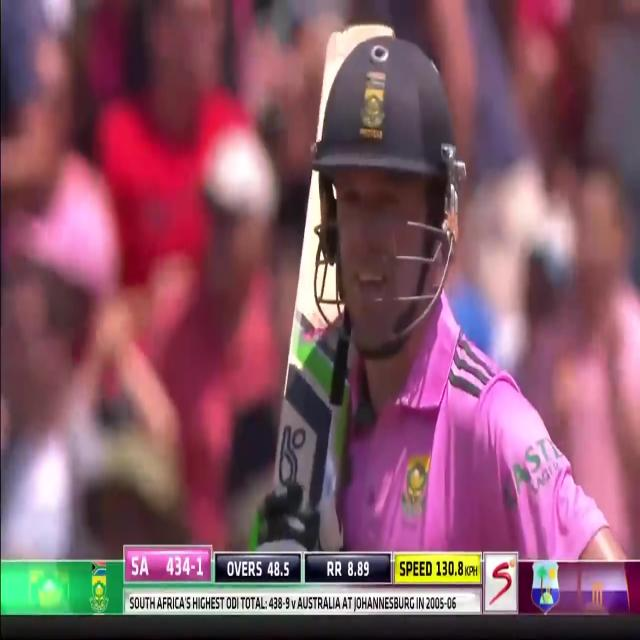Ball: (231, 27, 465, 553)
